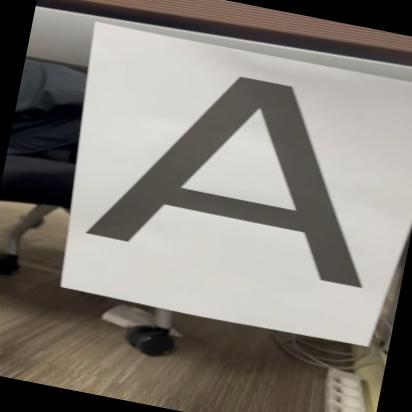seat: (67, 34, 412, 299)
